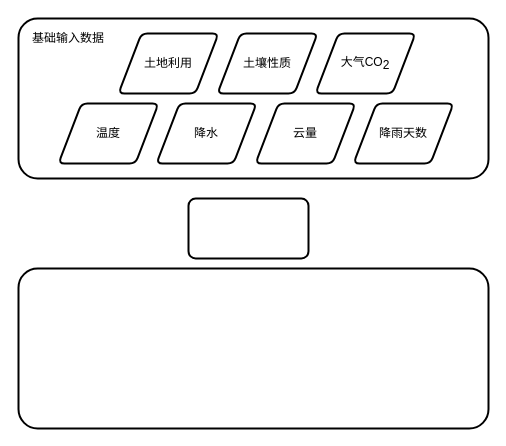
Some shapes in this 506 by 446 pixel diagram are drawn without their labels. Each missing label, with the box of its shape:
LPJmL模型: (187, 197, 309, 259)
三种水分配情景: (17, 267, 489, 429)
